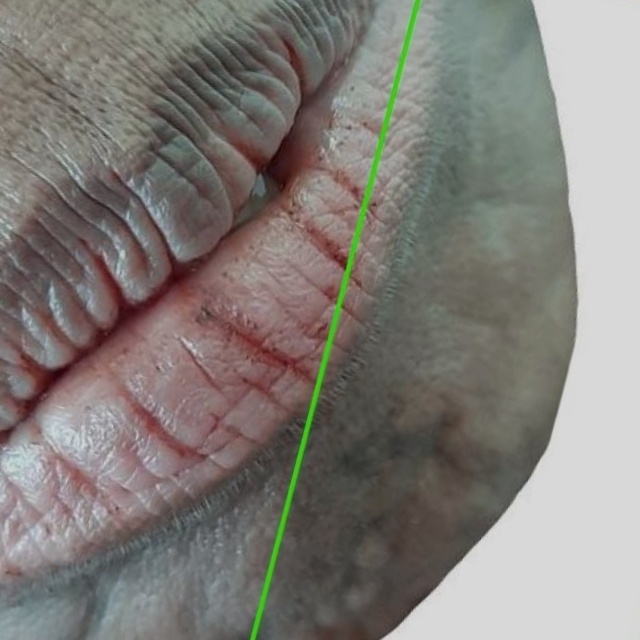Eczema: (254, 0, 639, 639)
